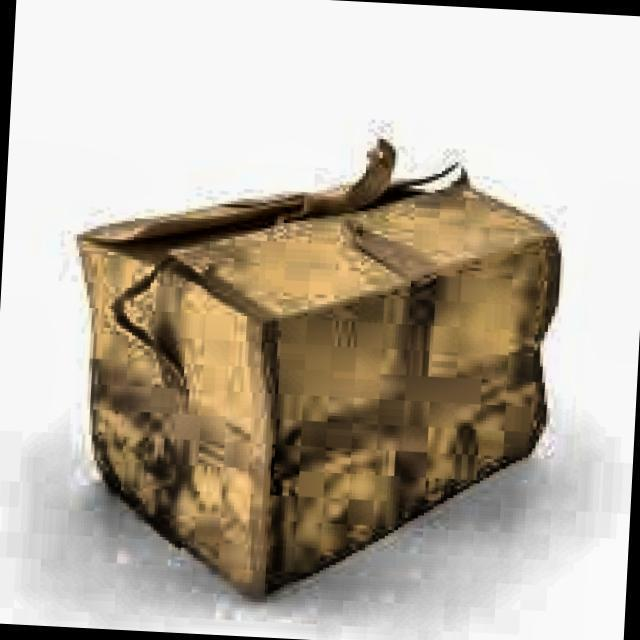cardboard: (55, 126, 567, 614)
